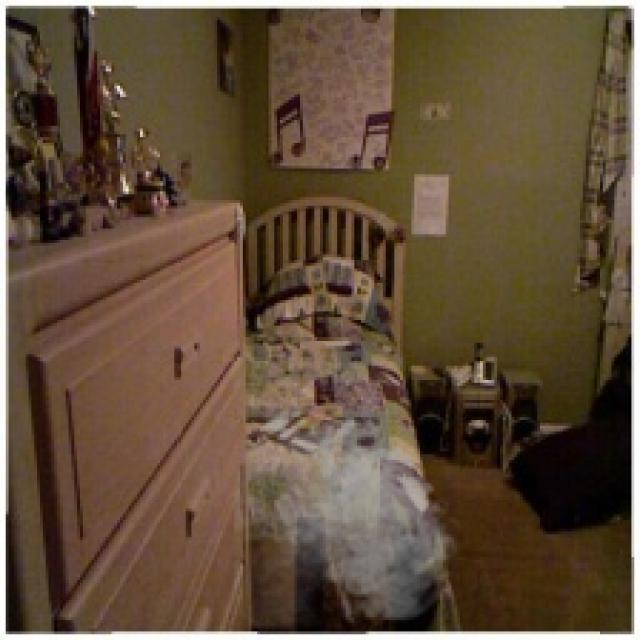Smoke: (234, 402, 466, 628)
